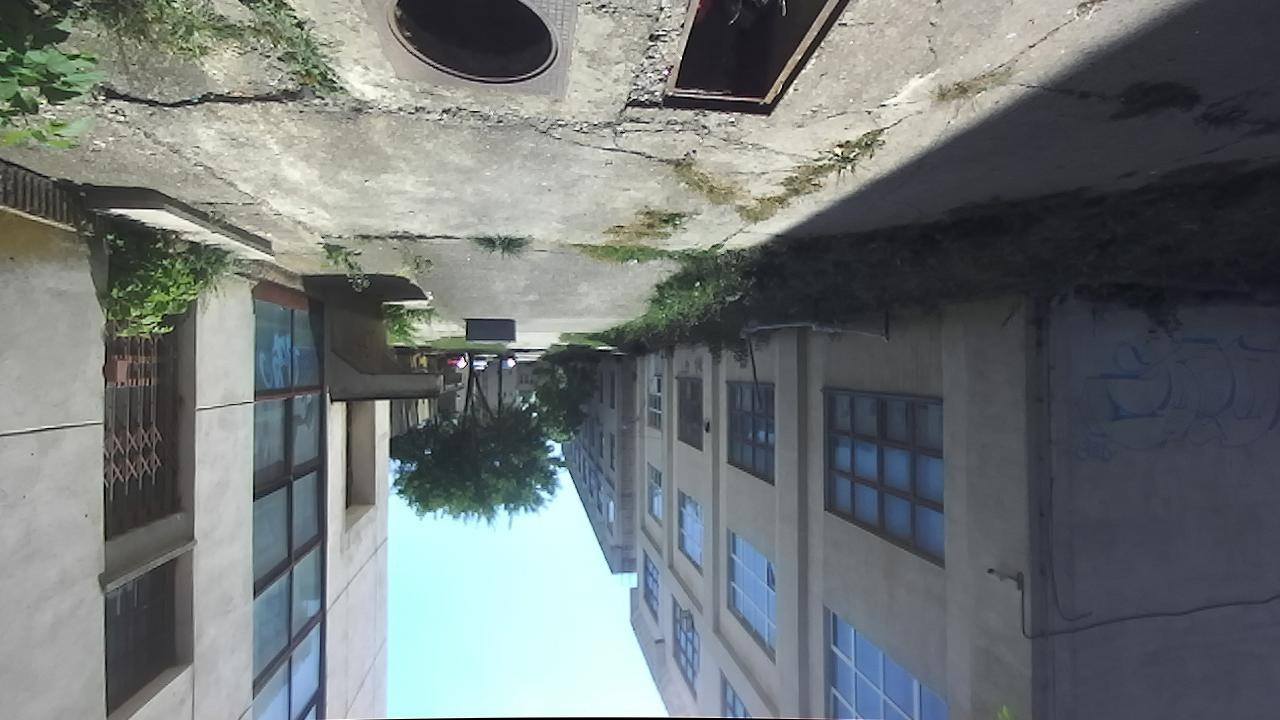drain: (659, 0, 853, 120), (381, 0, 568, 86)
